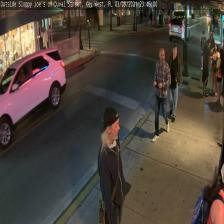person: (96, 107, 125, 224), (151, 47, 170, 142), (167, 44, 182, 121)
